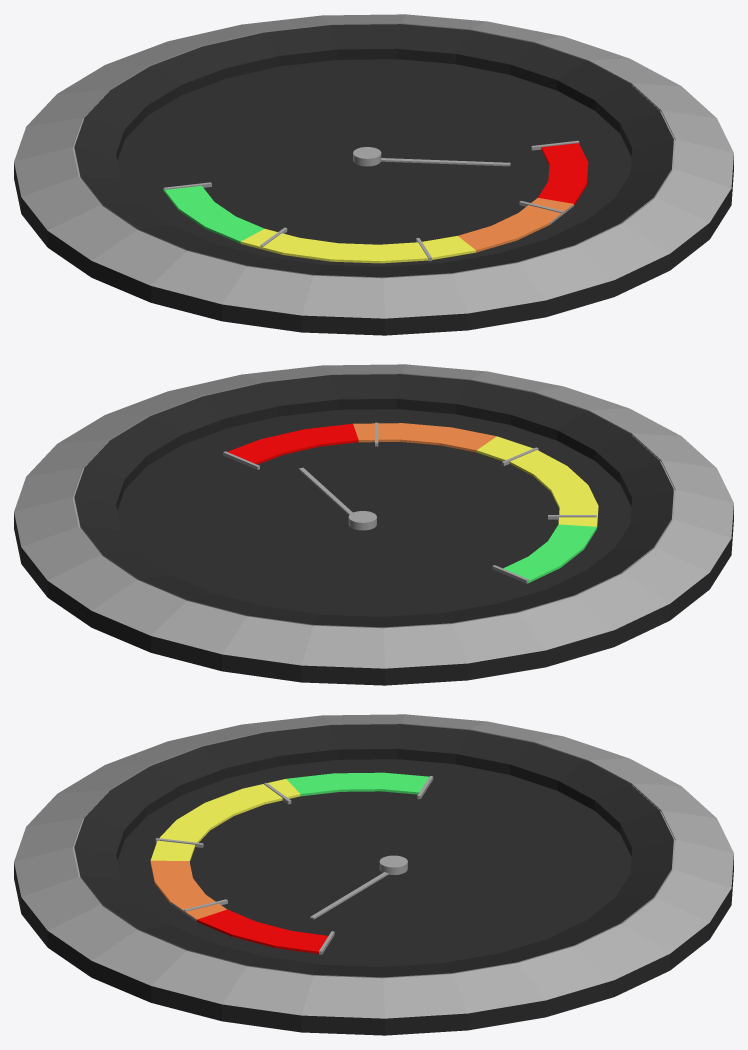
The model's file is speedometer.glb.
3 views of the same model, one above another, from view 1: azimuth 30°, elevation 25°; view 2: azimuth 150°, elevation 25°; view 3: azimuth 270°, elevation 25° (orthographic).
Parts seen in each view (by area): view 1: Cylinder004, Box20185; view 2: Cylinder004, Box20185; view 3: Cylinder004, Box20185.
Part boxes in pixels (left/top/right/bottom): Cylinder004: left=14, top=24, right=733, bottom=335; Box20185: left=14, top=14, right=733, bottom=318; Cylinder004: left=14, top=374, right=733, bottom=685; Box20185: left=14, top=364, right=733, bottom=668; Cylinder004: left=14, top=724, right=733, bottom=1035; Box20185: left=14, top=714, right=733, bottom=1018.
Bounding box in the file's own units: 39205 × 1960 × 39205.
2 materials, 2 textured.
